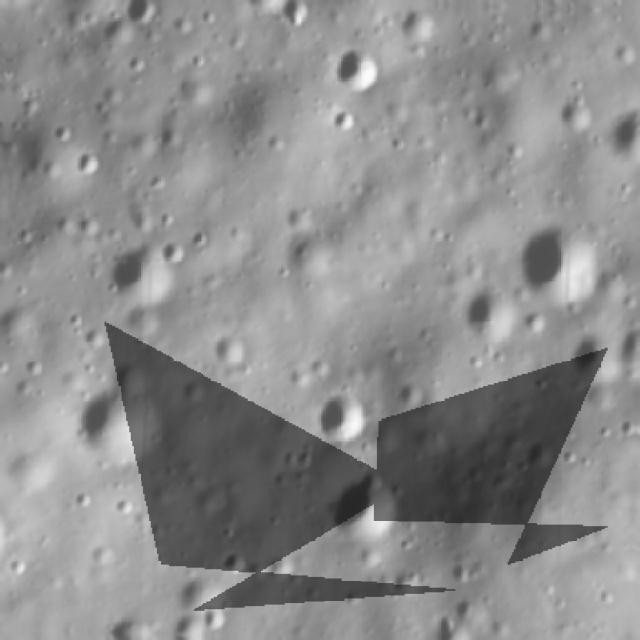crater: (66, 370, 166, 462), (522, 215, 609, 307), (339, 461, 403, 548), (102, 239, 169, 306), (458, 288, 517, 342), (336, 44, 384, 90), (568, 334, 612, 384), (323, 393, 369, 439), (552, 95, 592, 131), (400, 8, 442, 41), (211, 334, 247, 368), (113, 0, 156, 23), (202, 600, 229, 632), (396, 383, 424, 412), (75, 148, 100, 180), (283, 0, 311, 26), (228, 546, 252, 574), (4, 558, 31, 582), (50, 123, 76, 145), (334, 110, 360, 132), (168, 238, 187, 265), (118, 493, 133, 521), (71, 493, 94, 510), (387, 136, 411, 150)
